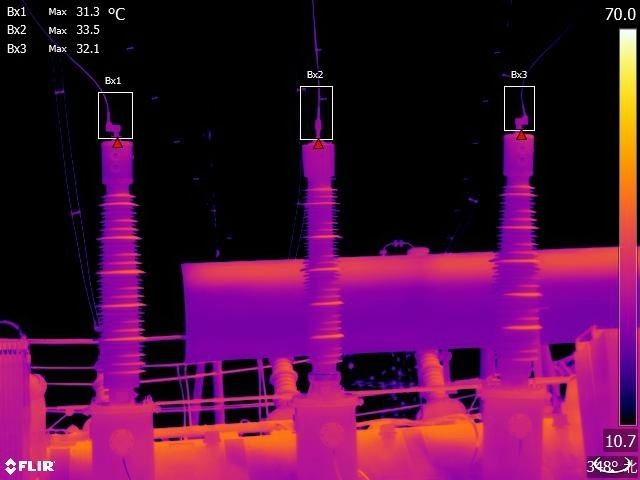oil conservator: (177, 245, 618, 369)
tube: (283, 113, 363, 386), (88, 116, 161, 407), (492, 121, 552, 381)
